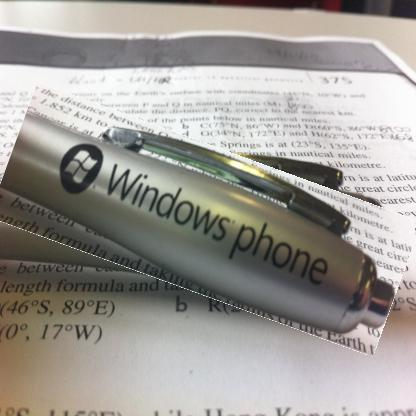Pen: (0, 115, 415, 324)
